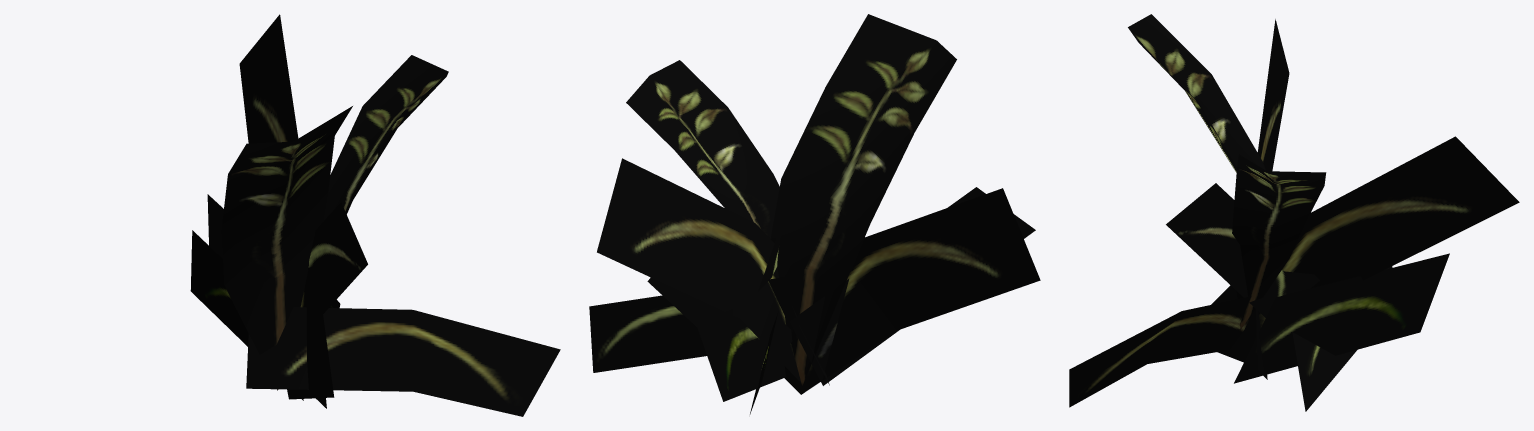
The model's file is FOL_BushC.FBX.
The picture shows the model from 3 angles, left to right: view 1: azimuth 30°, elevation 25°; view 2: azimuth 150°, elevation 25°; view 3: azimuth 270°, elevation 25°; orthographic projection. The views are drawn at different scales.
Parts seen in each view (by area): view 1: FOL_BushC; view 2: FOL_BushC; view 3: FOL_BushC.
Part boxes in pixels (left/top/right/bottom): FOL_BushC: left=190, top=14, right=560, bottom=416; FOL_BushC: left=589, top=14, right=1040, bottom=414; FOL_BushC: left=1069, top=14, right=1519, bottom=411.
Bounding box in the file's own units: 311 × 254 × 295.
1 material, 1 textured.
